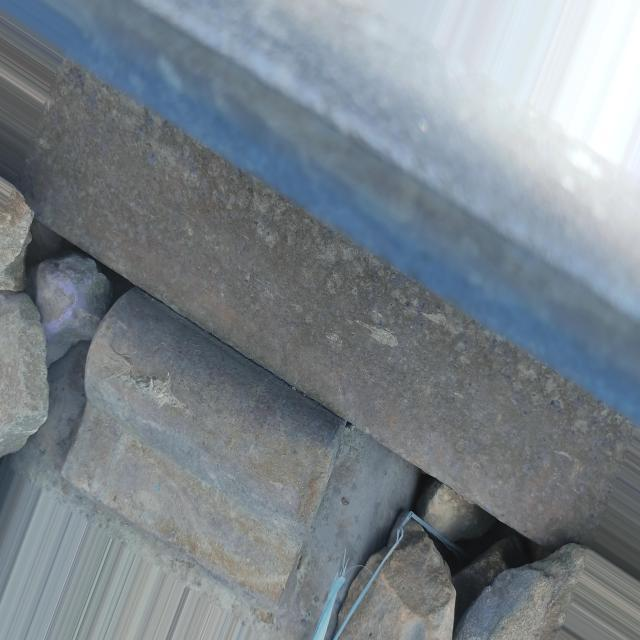Missing Fastener: (38, 279, 352, 622)
